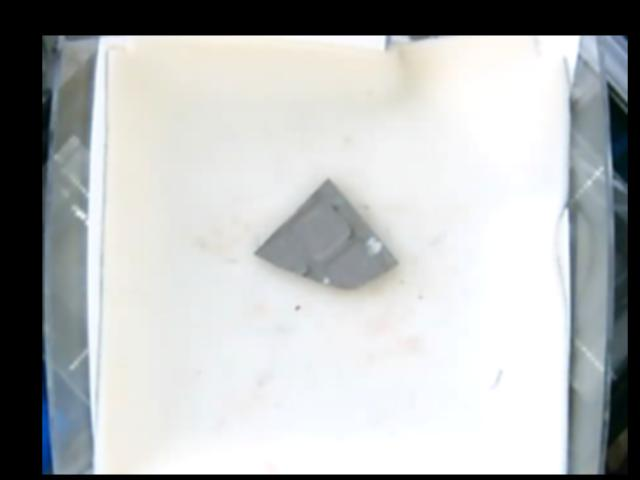China: (253, 179, 398, 287)
